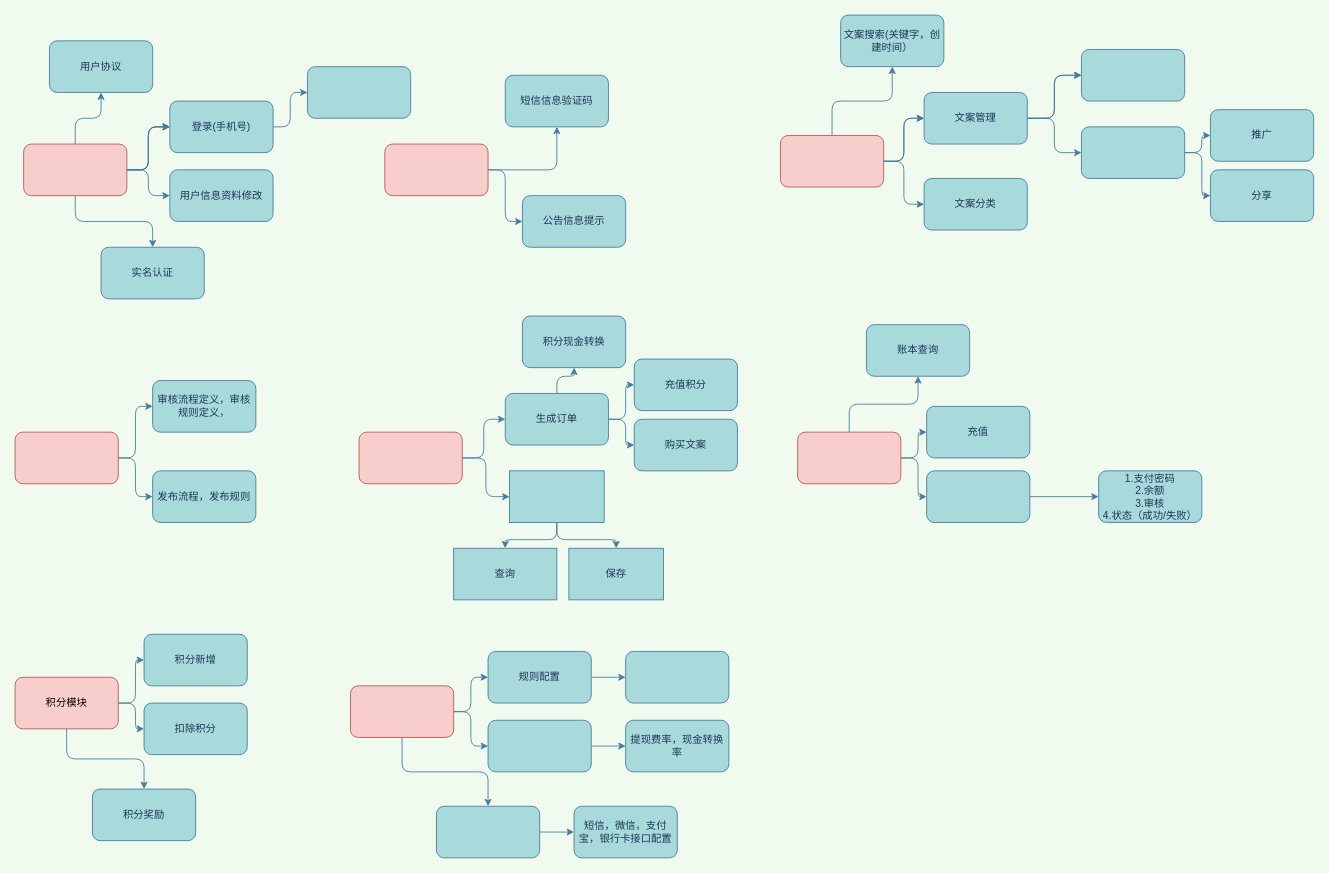
The diagram is 1329 pixels wide and 873 high, and some of its shapes have lost their labels. The box of each missing label's shape, as (x1, y1, x2, y2) in pixels:
信息模块: (384, 143, 488, 196)
创建文案: (1081, 49, 1185, 101)
参数配置: (487, 719, 591, 772)
审核，发布模块: (14, 431, 118, 484)
提现: (926, 470, 1030, 522)
提现，充值规则 积分规则: (625, 651, 729, 703)
文案模块: (780, 135, 884, 187)
文案详情: (1081, 126, 1185, 178)
第三方登录（微信，支付宝）: (307, 66, 411, 118)
第三方配置: (436, 805, 540, 858)
订单模块: (358, 431, 462, 484)
订单管理: (509, 470, 604, 522)
财务模块: (797, 431, 901, 484)
账户模块: (23, 143, 127, 196)
配置模块: (350, 685, 454, 737)
